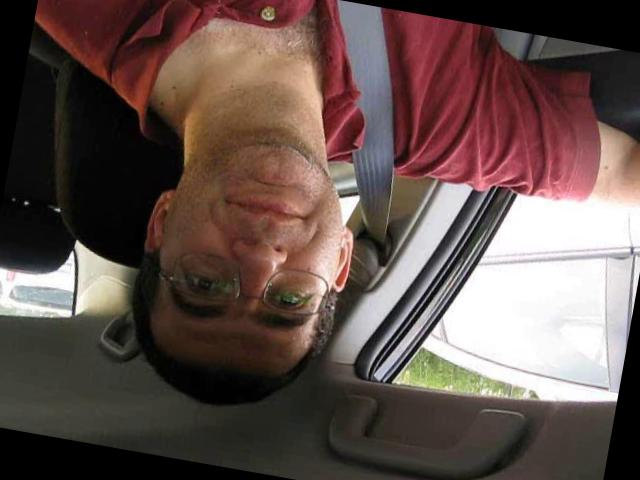eye_open: (261, 278, 316, 314), (179, 268, 234, 300)
face: (148, 124, 362, 363)
